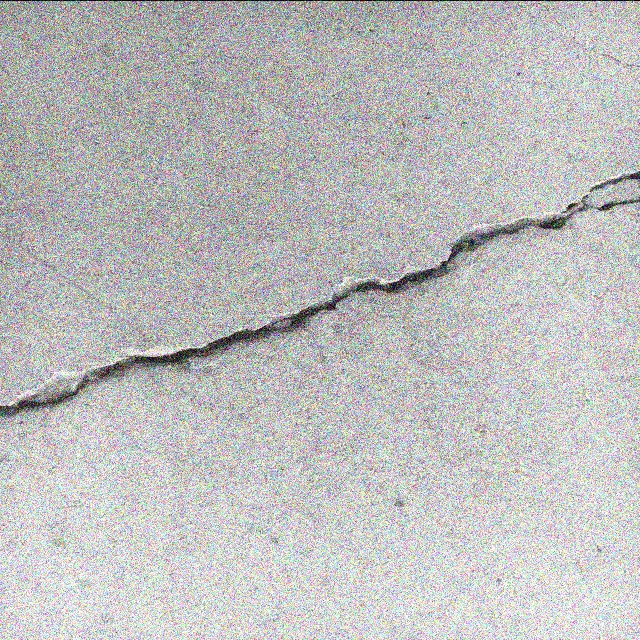SurfaceCrack: (1, 147, 640, 447)
